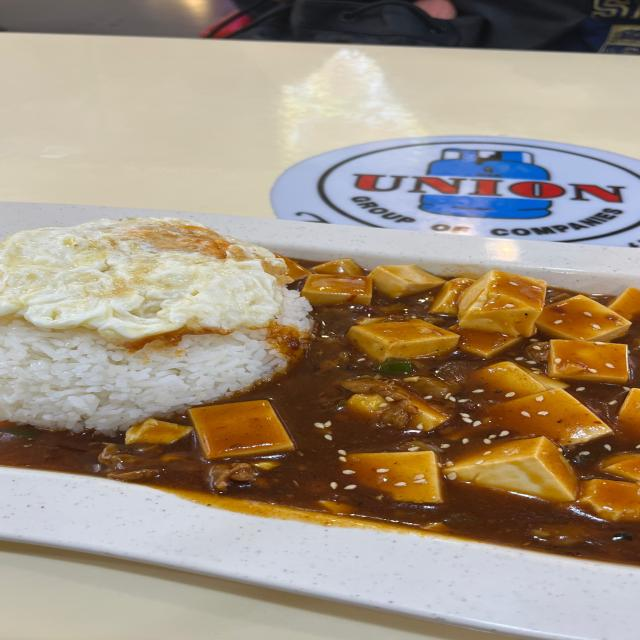Egg: (0, 218, 292, 342)
Rice: (0, 288, 313, 433)
Tofu: (286, 259, 640, 446), (443, 436, 578, 502), (580, 388, 640, 521), (188, 400, 295, 460), (342, 378, 448, 432), (343, 451, 442, 503), (125, 418, 191, 444)
